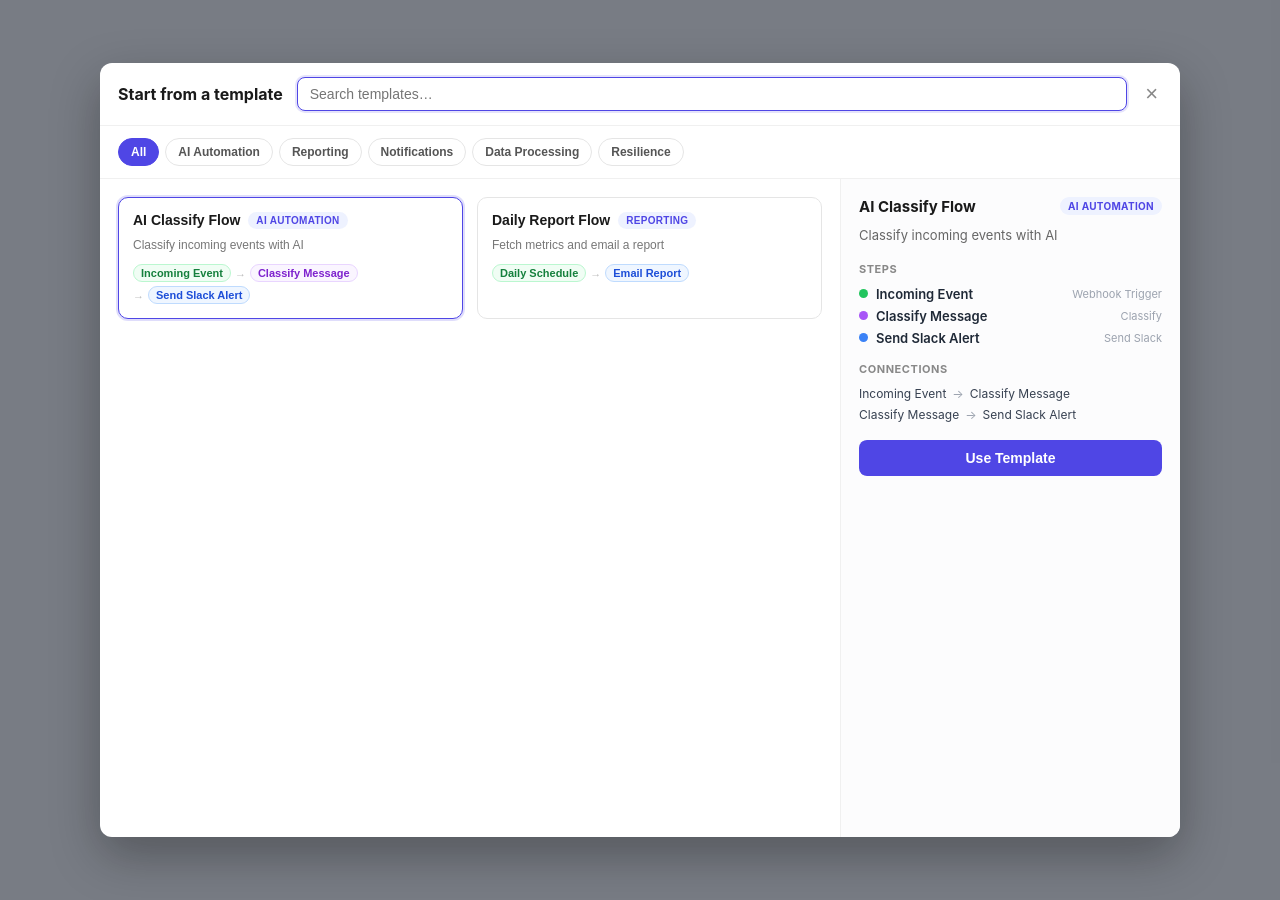
Test: TemplateGallery › shows an empty state for a category with no templates
This screenshot has width=1280, height=900.
expect the button "Classify incoming events" is shown: met, box [118,197,463,319]
Click the button "Resilience": click(641, 152) [598,138,684,166]
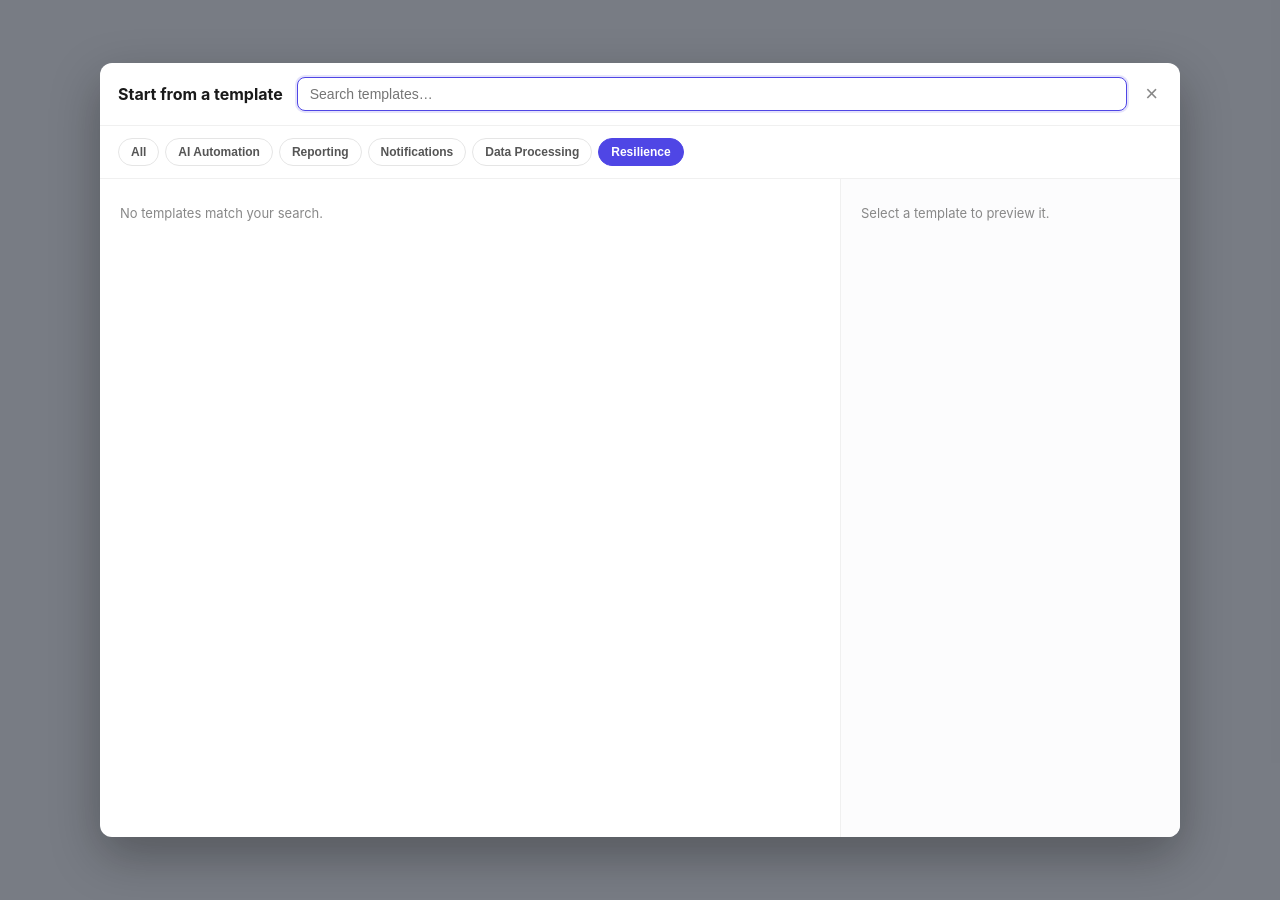
expect the text "No templates match your search." is shown: met, box [120,205,323,221]
